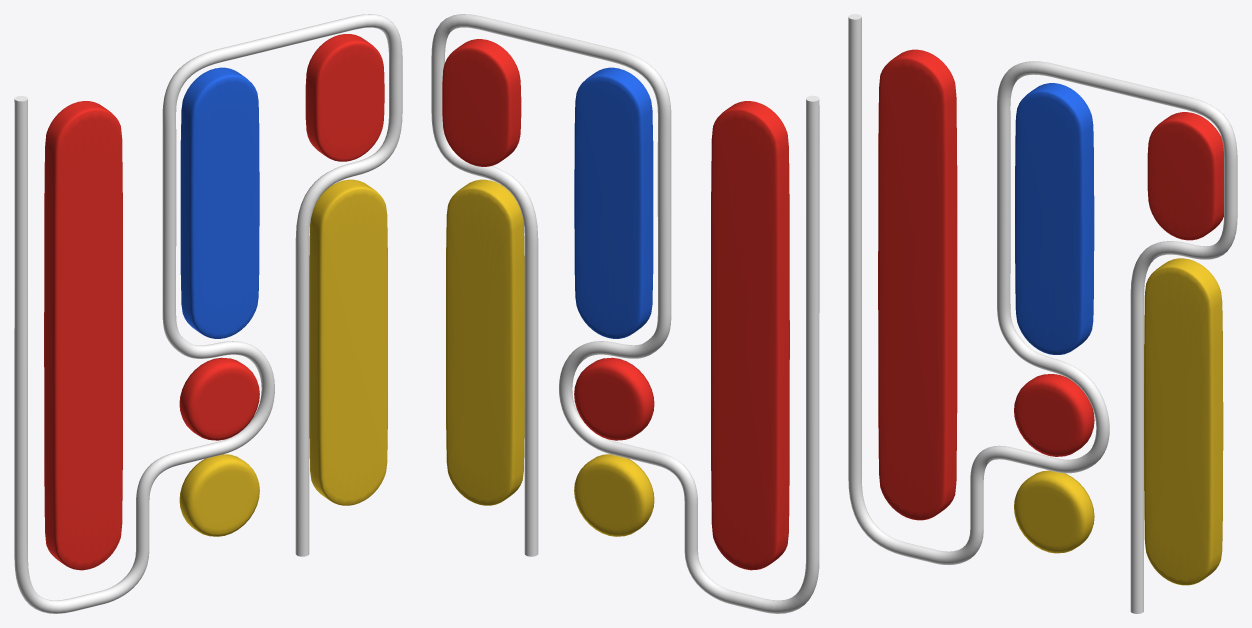
The picture shows the model from 3 angles, left to right: view 1: azimuth 30°, elevation 25°; view 2: azimuth 150°, elevation 25°; view 3: azimuth 330°, elevation 25°; orthographic projection.
Parts seen in each view (by area): view 1: Cube.012, BezierCurve.001, Cube.014, Cube.013, Cube.015, Cylinder.005, Cylinder.006; view 2: Cube.012, BezierCurve.001, Cube.014, Cube.013, Cube.015, Cylinder.005, Cylinder.006; view 3: Cube.012, BezierCurve.001, Cube.014, Cube.013, Cube.015, Cylinder.006, Cylinder.005.
Boxes of the visible parts, bbox=[...] form: Cube.012: bbox=[44, 101, 122, 570]; BezierCurve.001: bbox=[14, 14, 402, 613]; Cube.014: bbox=[309, 179, 387, 505]; Cube.013: bbox=[180, 67, 259, 338]; Cube.015: bbox=[305, 34, 384, 161]; Cylinder.005: bbox=[179, 357, 259, 440]; Cylinder.006: bbox=[179, 454, 259, 536]; Cube.012: bbox=[711, 101, 789, 570]; BezierCurve.001: bbox=[431, 14, 819, 613]; Cube.014: bbox=[446, 179, 524, 505]; Cube.013: bbox=[574, 67, 653, 338]; Cube.015: bbox=[442, 39, 521, 166]; Cylinder.005: bbox=[574, 357, 654, 440]; Cylinder.006: bbox=[574, 454, 654, 536]; Cube.012: bbox=[878, 49, 957, 520]; BezierCurve.001: bbox=[848, 14, 1237, 613]; Cube.014: bbox=[1144, 258, 1223, 585]; Cube.013: bbox=[1015, 83, 1094, 354]; Cube.015: bbox=[1147, 112, 1223, 240]; Cylinder.006: bbox=[1014, 470, 1094, 553]; Cylinder.005: bbox=[1014, 374, 1094, 456].
Bounding box in the file's own units: 0.8652 × 1.12 × 0.0637.
